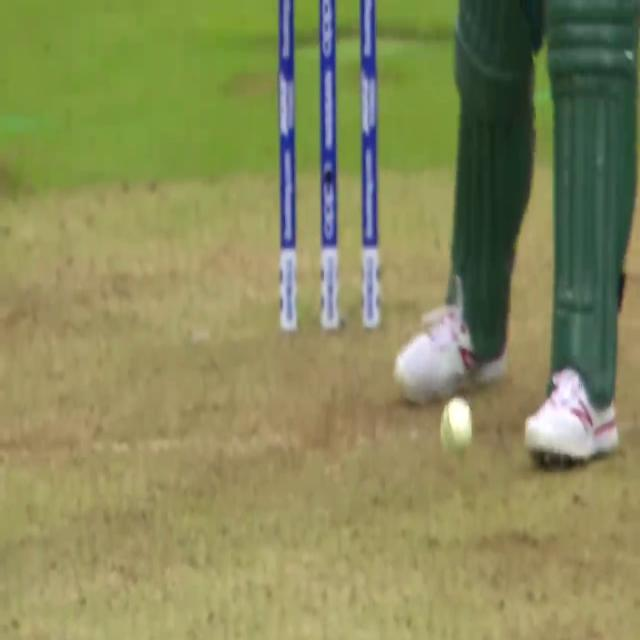ball: (439, 392, 477, 452)
